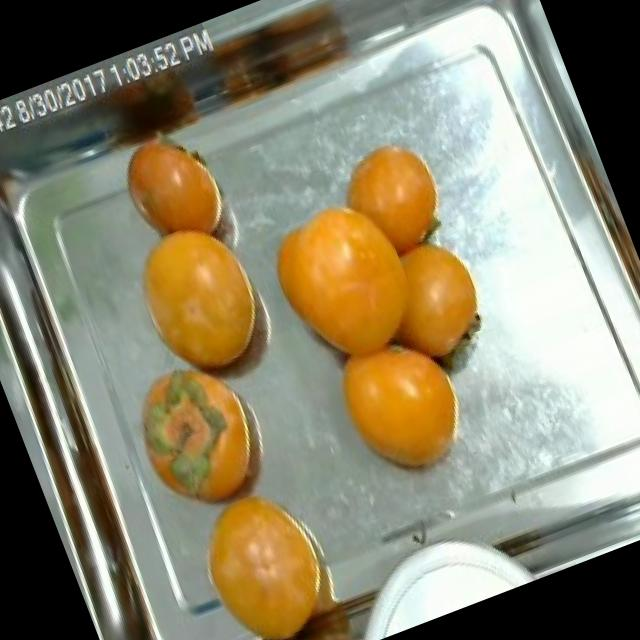Fruit: (247, 174, 445, 386), (106, 331, 287, 542), (171, 460, 370, 640), (112, 200, 288, 400), (314, 310, 489, 504), (348, 216, 515, 403), (187, 0, 382, 135), (324, 121, 468, 277), (106, 120, 242, 268)
